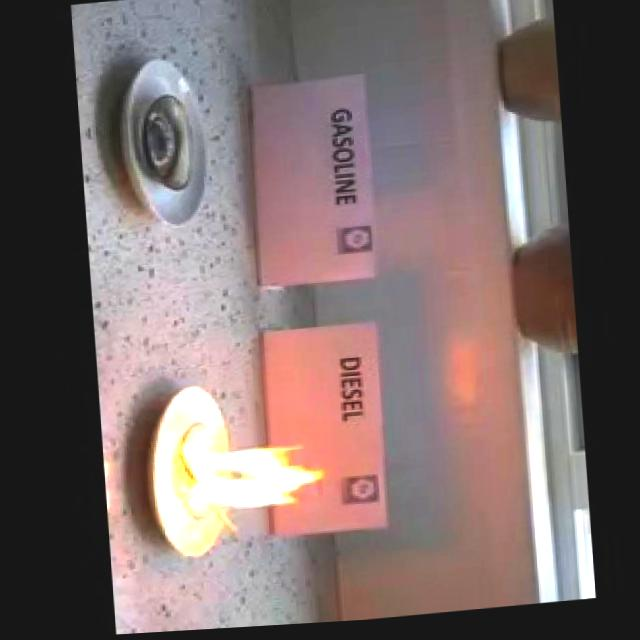helmet: (169, 427, 328, 521)
